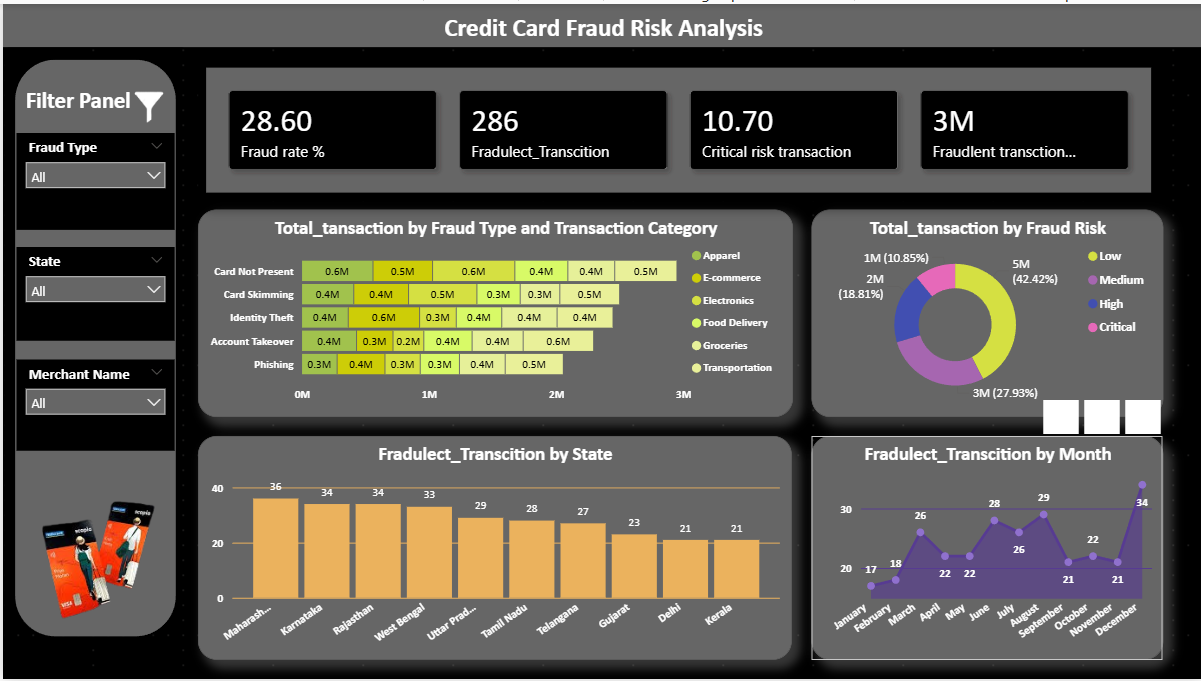

What the dashboard file says about the page in this screenshot:
{"tool":"powerbi","page":{"name":"Page 1","canvas":[1280,720],"ordinal":0},"visuals":[{"type":"textbox","box":[0,0,1278.9,46.1],"z":0},{"type":"shape","box":[0,46.1,197.2,641],"z":1000},{"type":"textbox","box":[19.1,82.7,135.2,55.7],"z":2000},{"type":"image","box":[132,81.1,46.1,57.3],"z":3000},{"type":"barChart","fields":{"Y":["Credit Card Fraud Risk Analysis.total_tansaction"],"Category":["Credit Card Fraud Risk Analysis.Fraud Type"],"Series":["Credit Card Fraud Risk Analysis.Transaction Category"]},"box":[208.4,219.5,634.7,221.1],"z":4000},{"type":"donutChart","fields":{"Category":["Credit Card Fraud Risk Analysis.Fraud Risk"],"Y":["Credit Card Fraud Risk Analysis.Total_tansaction"]},"box":[862.1,219.5,375.4,221.1],"z":5000},{"type":"columnChart","fields":{"Category":["Credit Card Fraud Risk Analysis.State"],"Y":["Credit Card Fraud Risk Analysis.Fradulect_Transcition"]},"box":[208.4,461.3,633.1,238.6],"z":6000},{"type":"lineChart","fields":{"Category":["Credit Card Fraud Risk Analysis.Transaction Date.Variation.Date Hierarchy.Month"],"Y":["Credit Card Fraud Risk Analysis.Fradulect_Transcition"]},"box":[862.1,461.3,375.4,238.6],"z":7000},{"type":"slicer","fields":{"Values":["Credit Card Fraud Risk Analysis.Fraud Type"]},"box":[14.3,138.4,168.6,103.4],"z":8000},{"type":"slicer","fields":{"Values":["Credit Card Fraud Risk Analysis.State"]},"box":[14.3,259.3,168.6,100.2],"z":9000},{"type":"slicer","fields":{"Values":["Credit Card Fraud Risk Analysis.Merchant Name"]},"box":[14.3,378.6,168.6,97],"z":10000},{"type":"cardVisual","fields":{"Data":["Credit Card Fraud Risk Analysis.Fraud rate %","Credit Card Fraud Risk Analysis.Fradulect_Transcition","Credit Card Fraud Risk Analysis.Critical risk transaction","Credit Card Fraud Risk Analysis.Fraudlent transction amount"]},"box":[208.4,58.9,1029.1,151.1],"z":10001},{"type":"image","box":[0,427.9,208.4,292.7],"z":10002}]}

Visuals, with their boxes in screenshot pixels (x1, y1, x2, y2), scaled from the page's 1280x720 canvas onto the 1201x681 screenshot:
textbox: detection(0, 0, 1200, 44)
shape: detection(0, 44, 185, 650)
textbox: detection(18, 78, 145, 131)
image: detection(124, 77, 167, 131)
barChart - Credit Card Fraud Risk Analysis.total_tansaction x Credit Card Fraud Risk Analysis.Fraud Type: detection(196, 208, 791, 417)
donutChart - Credit Card Fraud Risk Analysis.Fraud Risk x Credit Card Fraud Risk Analysis.Total_tansaction: detection(809, 208, 1161, 417)
columnChart - Credit Card Fraud Risk Analysis.State x Credit Card Fraud Risk Analysis.Fradulect_Transcition: detection(196, 436, 790, 662)
lineChart - Credit Card Fraud Risk Analysis.Transaction Date.Variation.Date Hierarchy.Month x Credit Card Fraud Risk Analysis.Fradulect_Transcition: detection(809, 436, 1161, 662)
slicer - Credit Card Fraud Risk Analysis.Fraud Type: detection(13, 131, 172, 229)
slicer - Credit Card Fraud Risk Analysis.State: detection(13, 245, 172, 340)
slicer - Credit Card Fraud Risk Analysis.Merchant Name: detection(13, 358, 172, 450)
cardVisual - Credit Card Fraud Risk Analysis.Fraud rate % x Credit Card Fraud Risk Analysis.Fradulect_Transcition: detection(196, 56, 1161, 199)
image: detection(0, 405, 196, 680)
